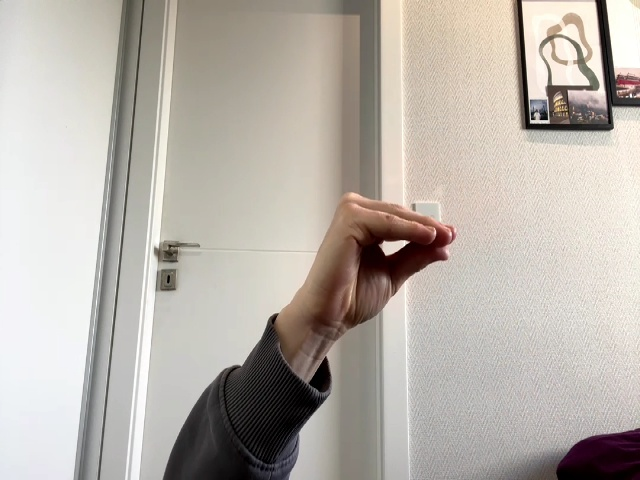E: (308, 192, 456, 327)
